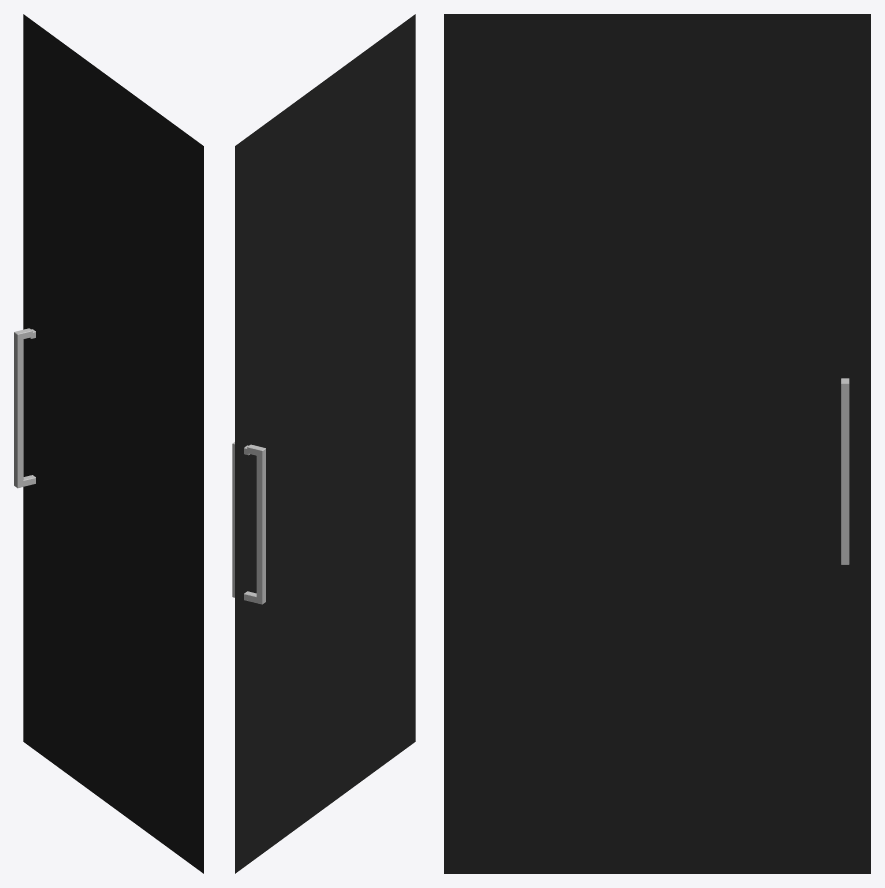
Rendered from Puertaderecha.obj.
The picture shows the model from 3 angles, left to right: view 1: azimuth 30°, elevation 25°; view 2: azimuth 150°, elevation 25°; view 3: azimuth 270°, elevation 25°; orthographic projection. The views are drawn at different scales.
Parts seen in each view (by area): view 1: Box16941, Box16932; view 2: Box16941, Box16932, Box16935; view 3: Box16941, Box16935.
Boxes of the visible parts, x1,y1,x2,y2 form: Box16941: [23, 14, 203, 873]; Box16932: [14, 331, 23, 488]; Box16941: [235, 14, 415, 873]; Box16932: [256, 447, 265, 604]; Box16935: [232, 442, 234, 597]; Box16941: [444, 14, 870, 873]; Box16935: [841, 379, 849, 564].
Bounding box in the file's own units: 0.9191 × 21.02 × 9.45.
